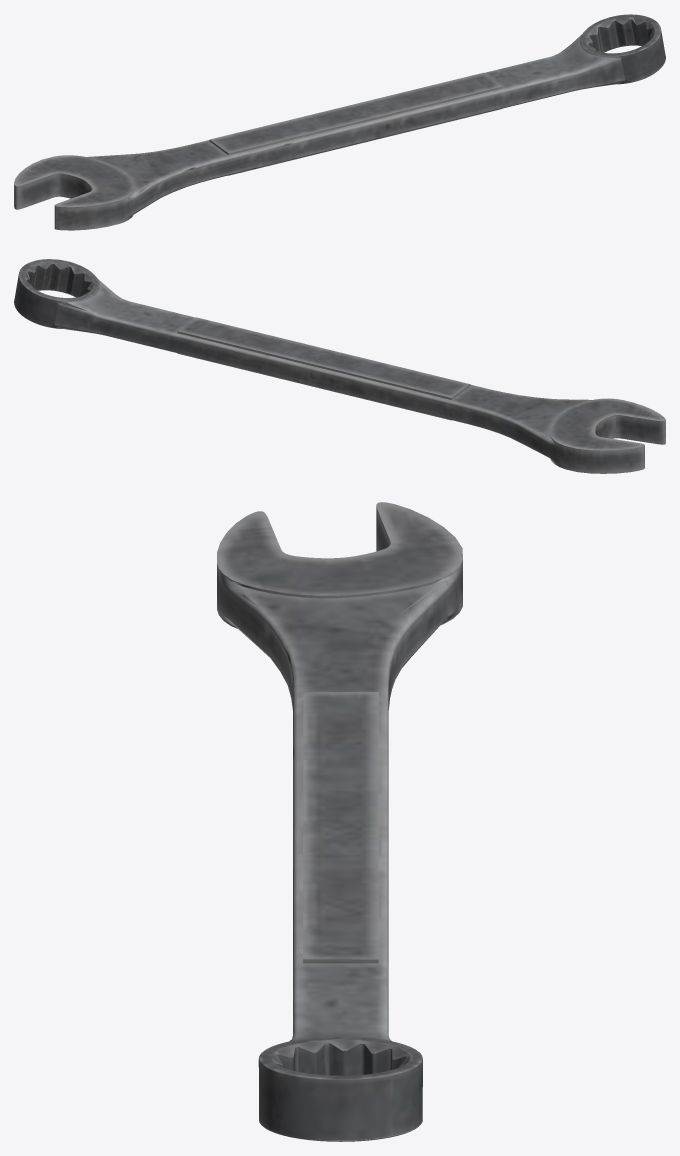
The model's file is wrench.glb.
The picture shows the model from 3 angles, top to bottom: view 1: azimuth 30°, elevation 25°; view 2: azimuth 150°, elevation 25°; view 3: azimuth 270°, elevation 25°; orthographic projection. The views are drawn at different scales.
Visible parts, largest first — view 1: wrench; view 2: wrench; view 3: wrench.
Part boxes in pixels (<box>): wrench: <box>14,14,665,230</box>; wrench: <box>14,259,665,473</box>; wrench: <box>217,502,462,1141</box>.
Size of the model in its own units: 0.3 by 0.0192 by 0.0504.
1 material, 1 textured.
